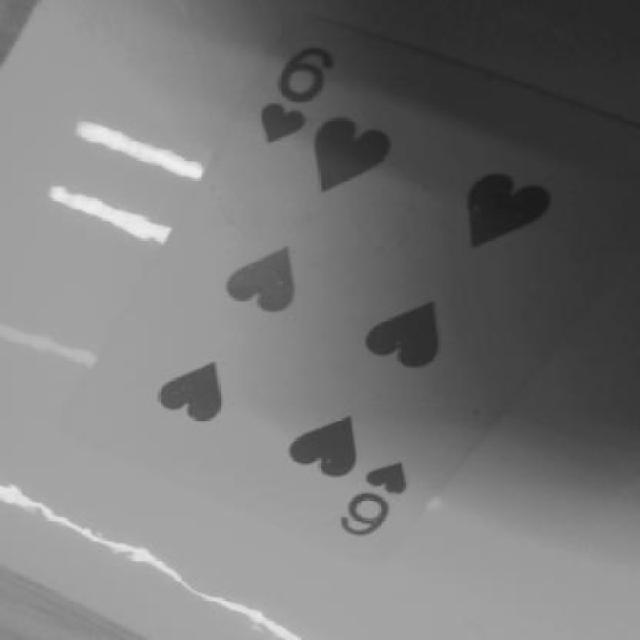6H: (241, 25, 344, 147), (330, 444, 433, 550)
